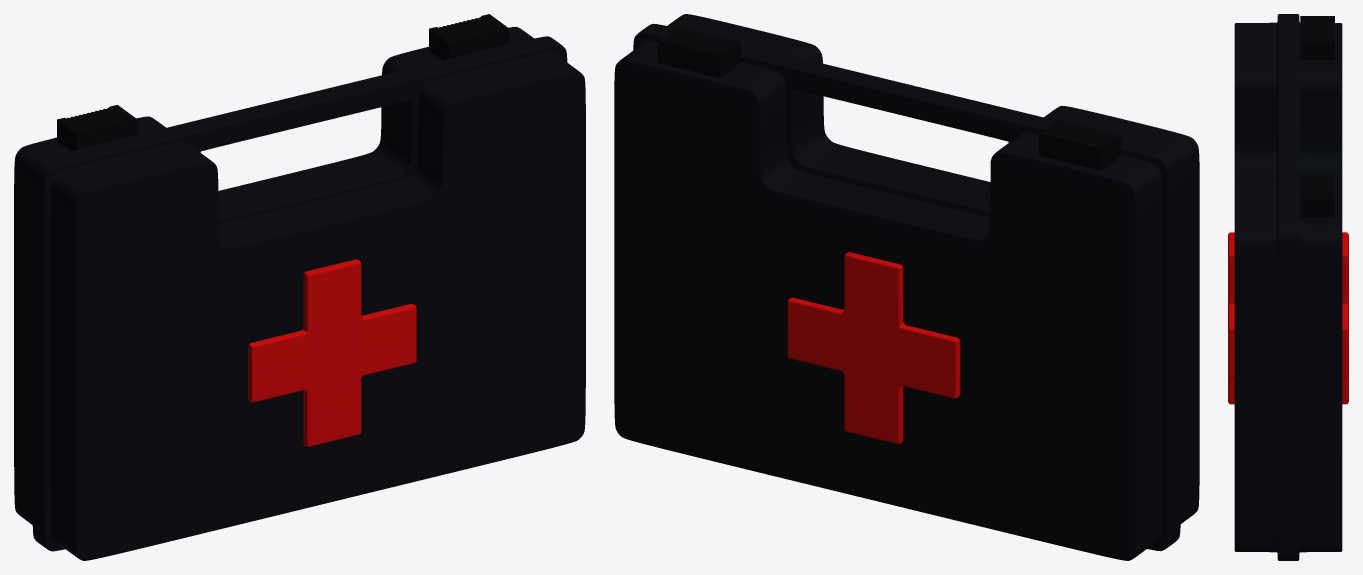
The model's file is uploads_files_2279996_First_Aid_Kit.fbx.
3 renders of one model, left to right at view 1: azimuth 30°, elevation 25°; view 2: azimuth 150°, elevation 25°; view 3: azimuth 270°, elevation 25°, orthographic. The views are drawn at different scales.
Parts seen in each view (by area): view 1: aptechka; view 2: aptechka; view 3: aptechka.
Boxes of the visible parts, x1,y1,x2,y2 form: aptechka: (14, 14, 585, 560); aptechka: (614, 14, 1199, 560); aptechka: (1228, 14, 1348, 560).
Bounding box in the file's own units: 39.62 × 28.93 × 9.12.
